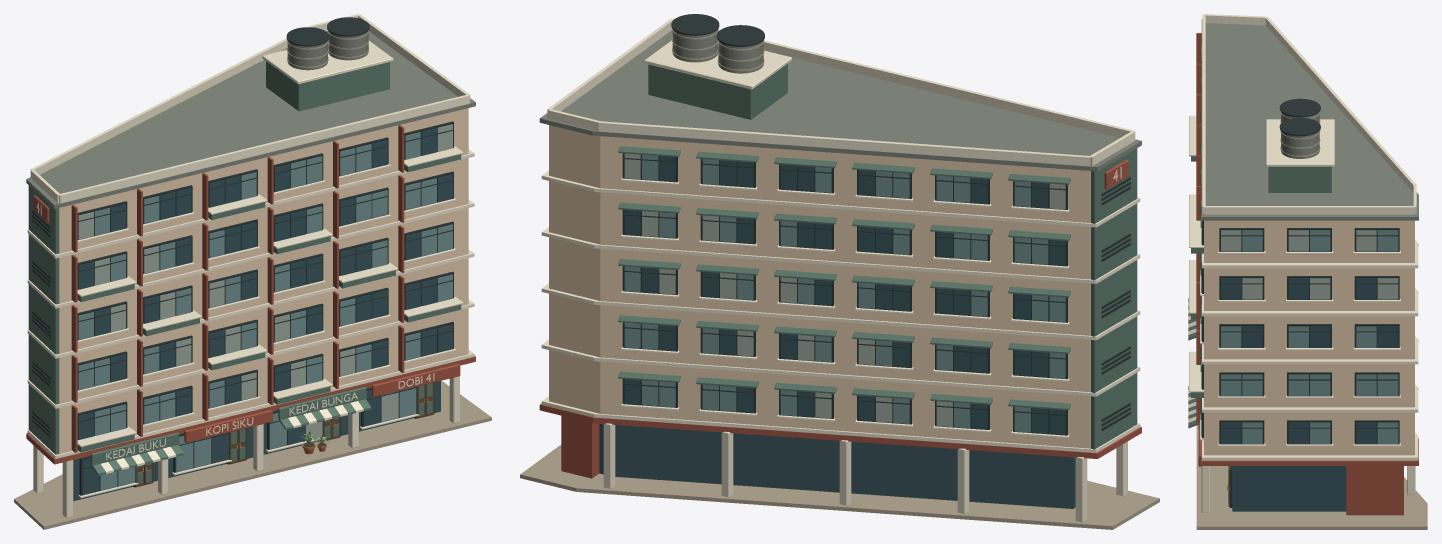
3 renders of one model, left to right at view 1: azimuth 30°, elevation 25°; view 2: azimuth 150°, elevation 25°; view 3: azimuth 270°, elevation 25°, orthographic. The views are drawn at different scales.
Visible parts, largest first — view 1: Wedge plan walk-up, Casement assemblies, Sunbreaks, Five foot shopping arcade, Street lettering, Header tanks, Entrance joinery; view 2: Wedge plan walk-up, Casement assemblies, Sunbreaks, Five foot shopping arcade, Monsoon sunhoods, Header tanks; view 3: Wedge plan walk-up, Casement assemblies, Five foot shopping arcade, Sunbreaks, Header tanks.
Boxes of the visible parts, left/top/right/bottom form: Wedge plan walk-up: left=26, top=14, right=475, bottom=501; Casement assemblies: left=77, top=121, right=455, bottom=498; Sunbreaks: left=27, top=125, right=474, bottom=458; Five foot shopping arcade: left=14, top=356, right=491, bottom=529; Street lettering: left=33, top=195, right=460, bottom=465; Header tanks: left=286, top=17, right=369, bottom=70; Entrance joinery: left=133, top=382, right=434, bottom=487; Wedge plan walk-up: left=539, top=18, right=1141, bottom=508; Casement assemblies: left=621, top=153, right=1069, bottom=438; Sunbreaks: left=541, top=148, right=1140, bottom=452; Five foot shopping arcade: left=520, top=403, right=1159, bottom=529; Monsoon sunhoods: left=618, top=146, right=1070, bottom=410; Header tanks: left=671, top=14, right=764, bottom=73; Wedge plan walk-up: left=1201, top=14, right=1418, bottom=511; Casement assemblies: left=1200, top=46, right=1400, bottom=496; Five foot shopping arcade: left=1188, top=298, right=1427, bottom=529; Sunbreaks: left=1189, top=33, right=1418, bottom=460; Header tanks: left=1279, top=98, right=1320, bottom=158.
Bounding box in the file's own units: 26.86 × 21.58 × 12.93.
